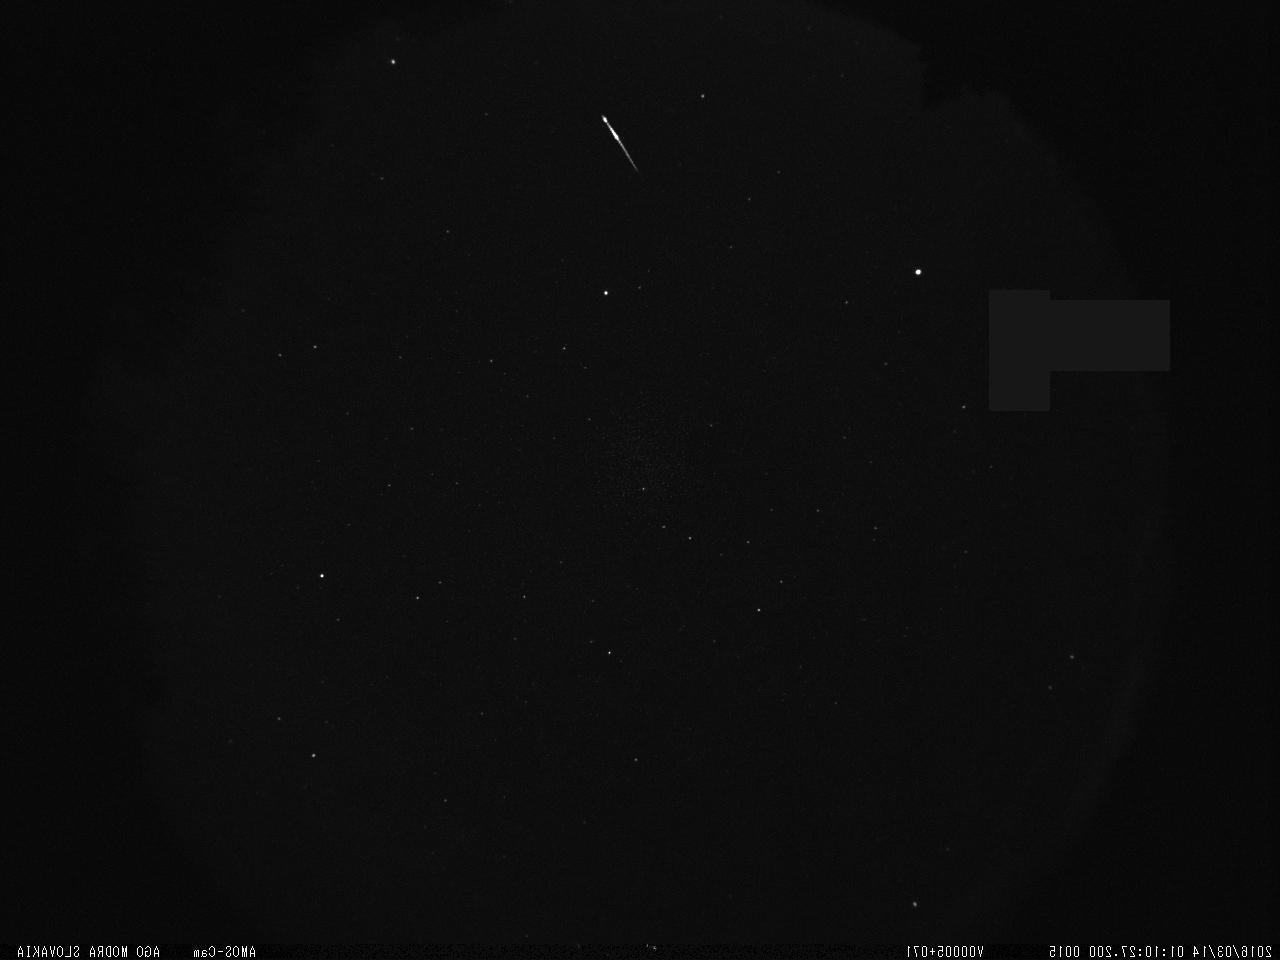meteor: (595, 108, 640, 176)
